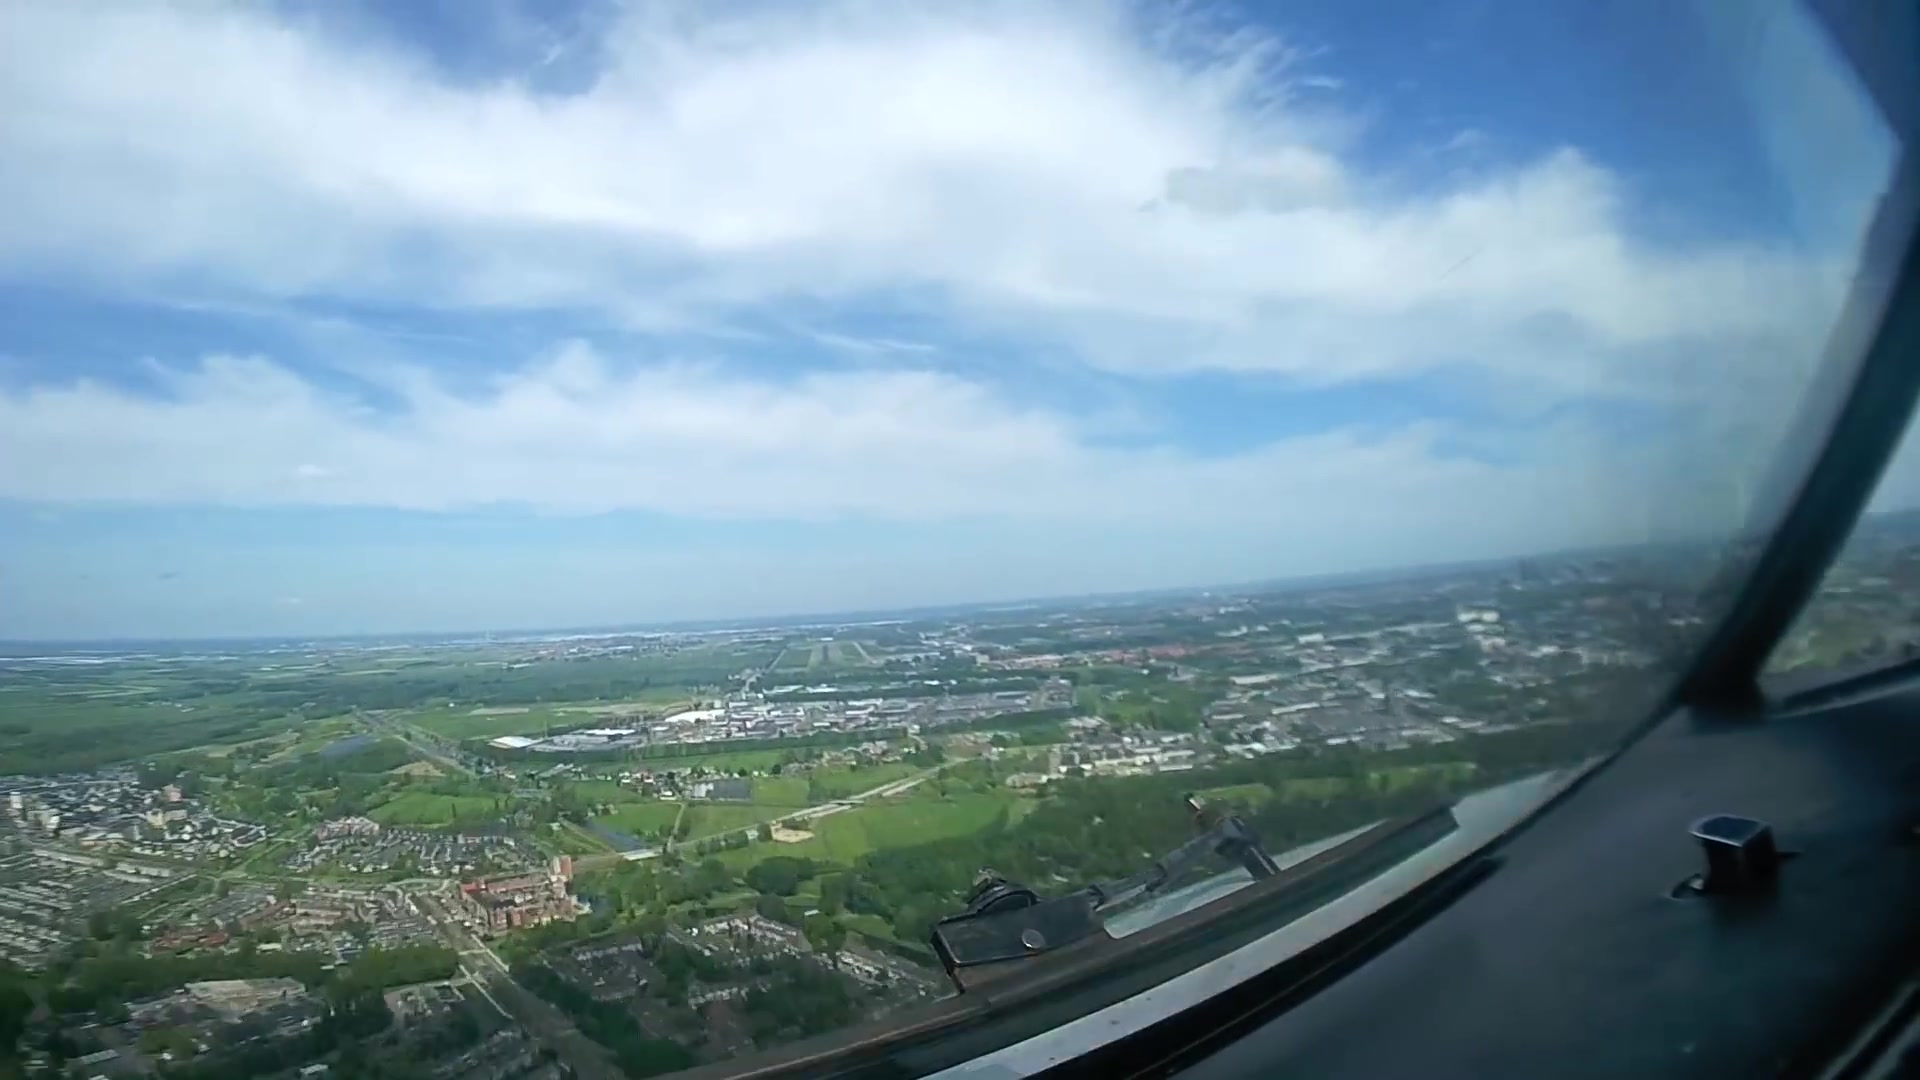runway: (815, 642, 835, 674)
